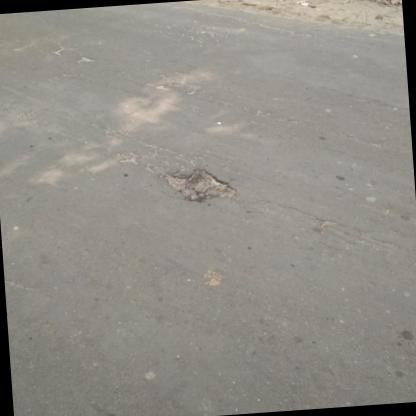pothole: (162, 164, 240, 204)
